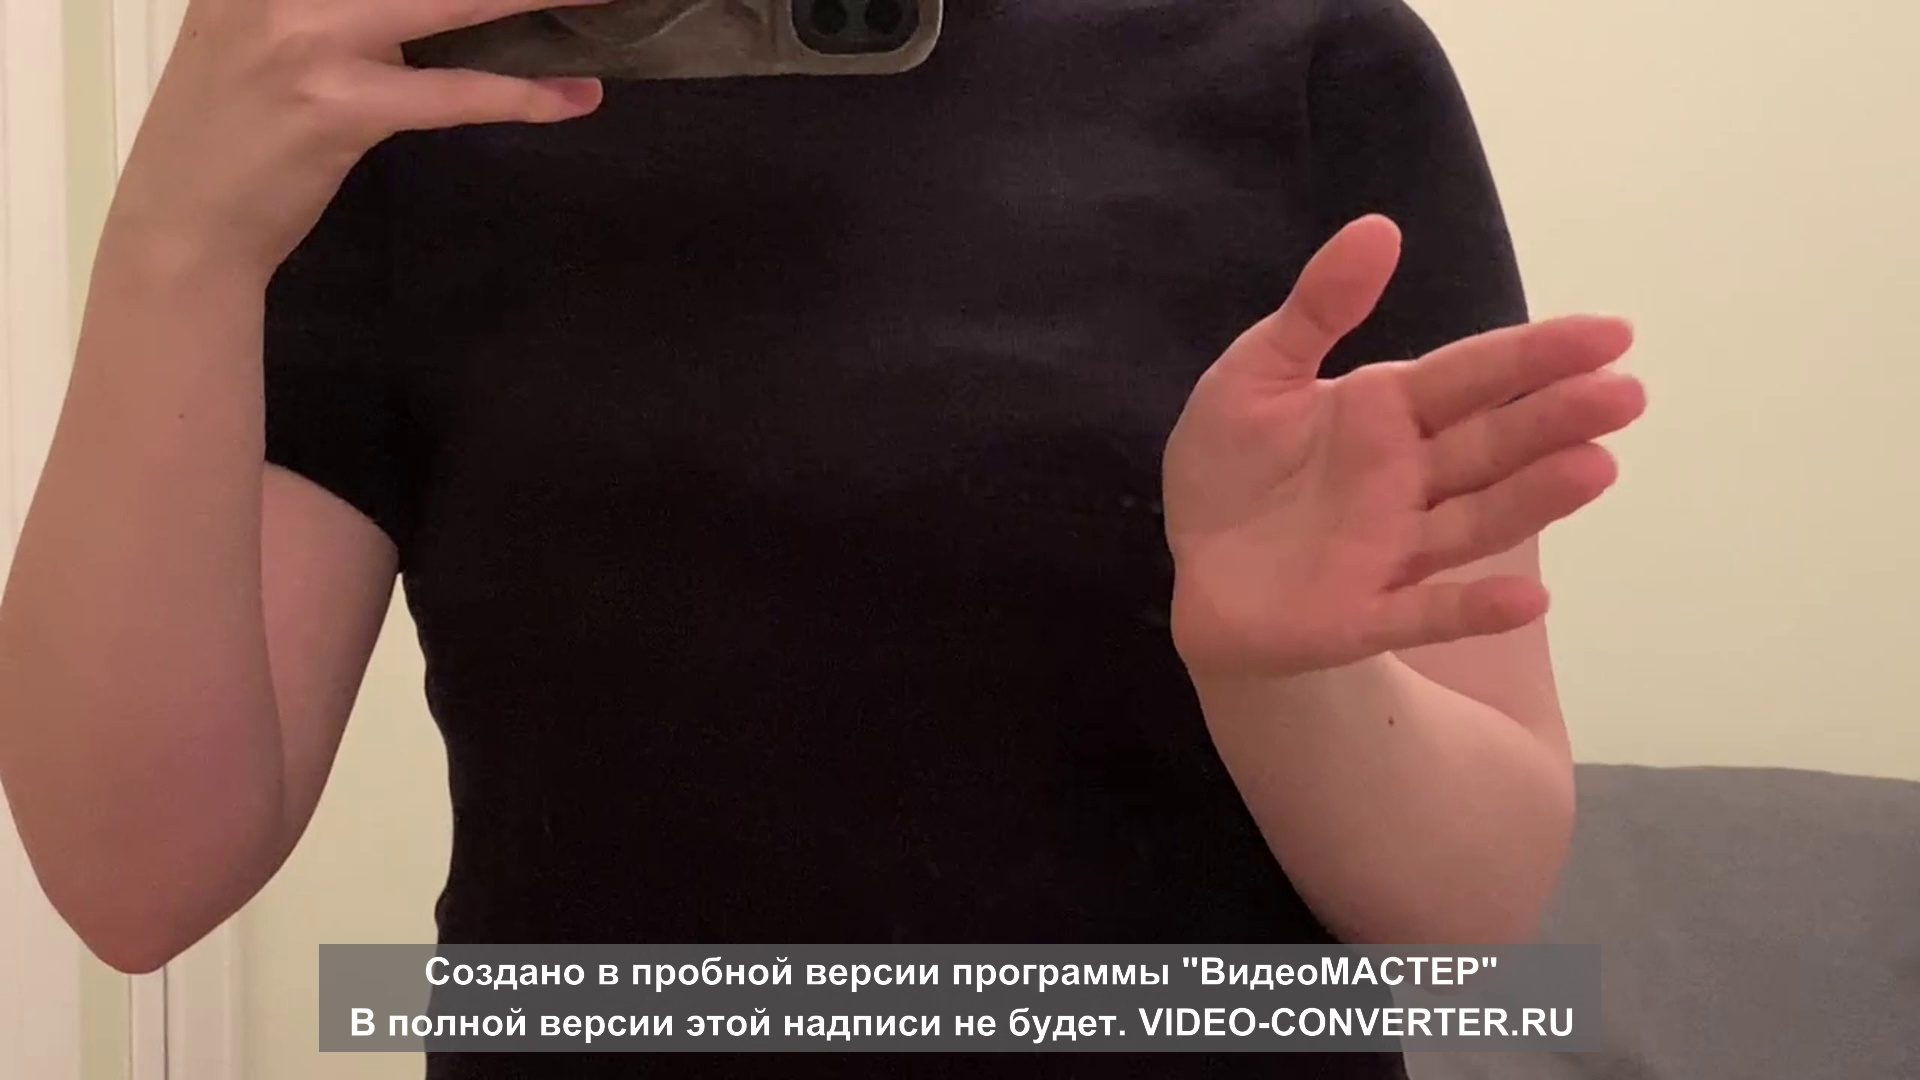Ладонь: (1159, 211, 1648, 653)
